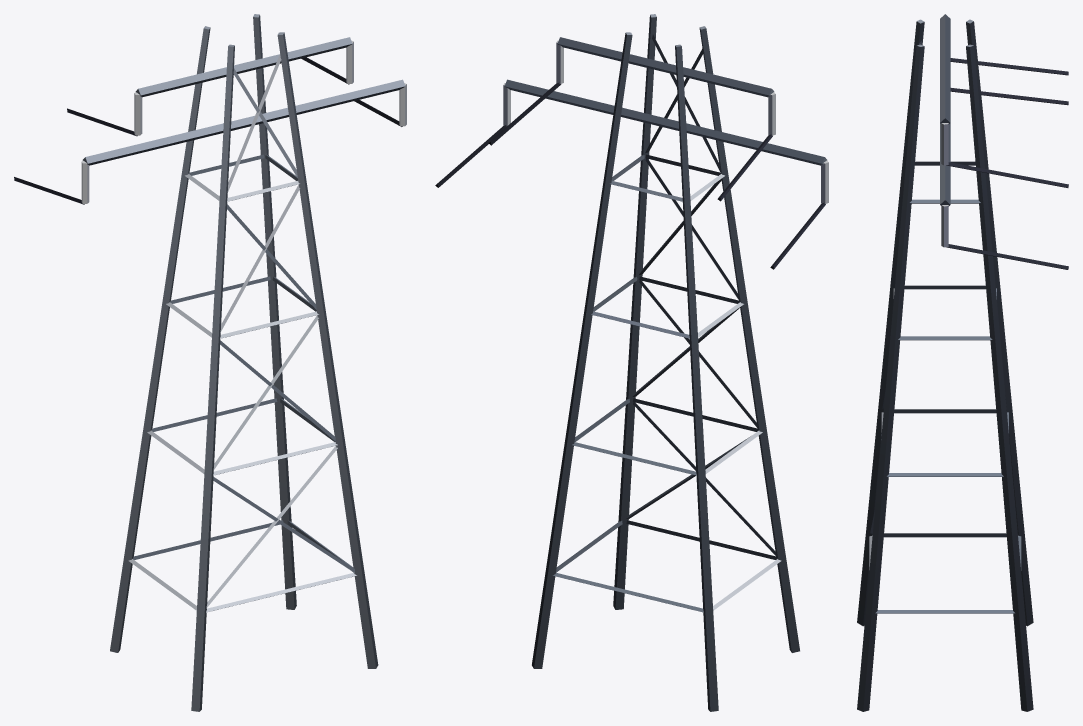
The model's file is power_pylon.glb.
3 renders of one model, left to right at view 1: azimuth 30°, elevation 25°; view 2: azimuth 150°, elevation 25°; view 3: azimuth 270°, elevation 25°, orthographic.
Visible parts, largest first — view 1: power_pylon; view 2: power_pylon; view 3: power_pylon.
Boxes of the visible parts, x1=… form: power_pylon: x1=14, y1=14, x2=406, y2=711; power_pylon: x1=435, y1=14, x2=828, y2=711; power_pylon: x1=857, y1=14, x2=1068, y2=711.
Size of the model in its own units: 1.92 by 3.41 by 1.03.
